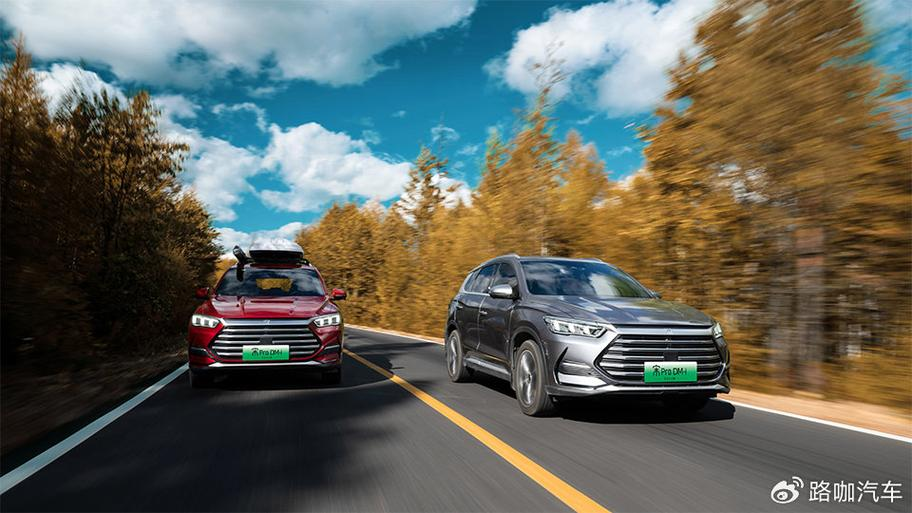汽车: (433, 252, 744, 424), (182, 246, 359, 391)
